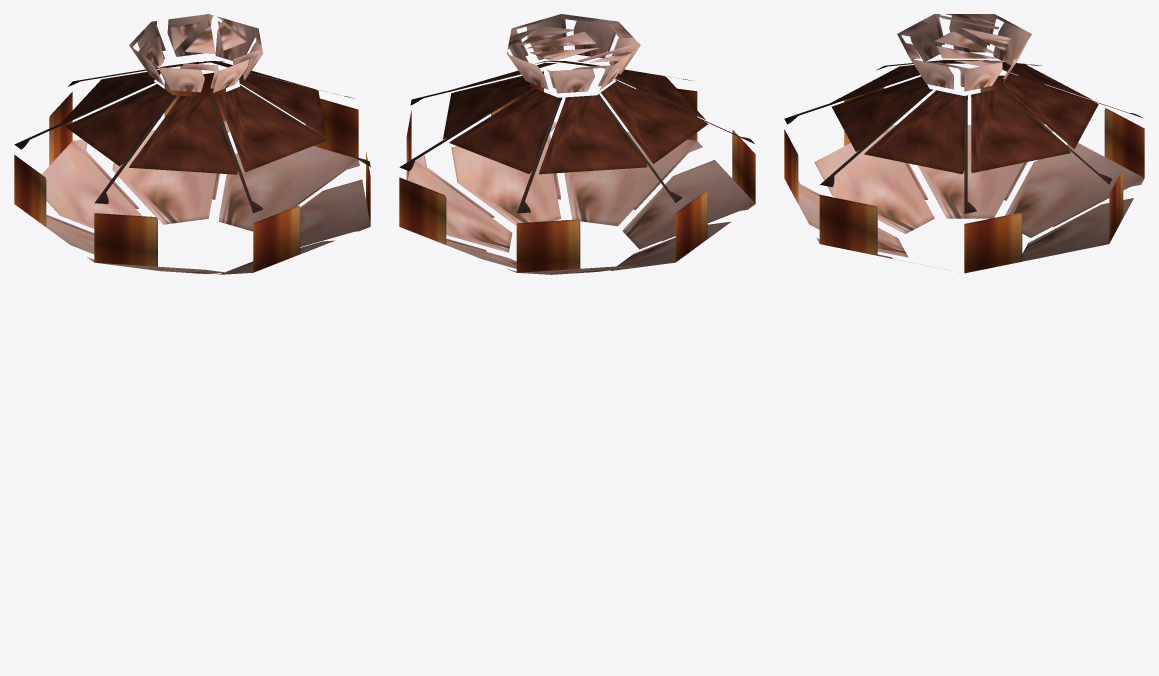
3 views of the same model, side by side, from view 1: azimuth 30°, elevation 25°; view 2: azimuth 150°, elevation 25°; view 3: azimuth 270°, elevation 25° (orthographic).
Parts seen in each view (by area): view 1: T1L4M007_25; view 2: T1L4M007_25; view 3: T1L4M007_25.
Boxes of the visible parts, bbox=[...] form: T1L4M007_25: bbox=[14, 14, 370, 274]; T1L4M007_25: bbox=[399, 14, 755, 274]; T1L4M007_25: bbox=[784, 14, 1144, 273].
Size of the model in its own units: 0.79 by 1.37 by 0.8115.
